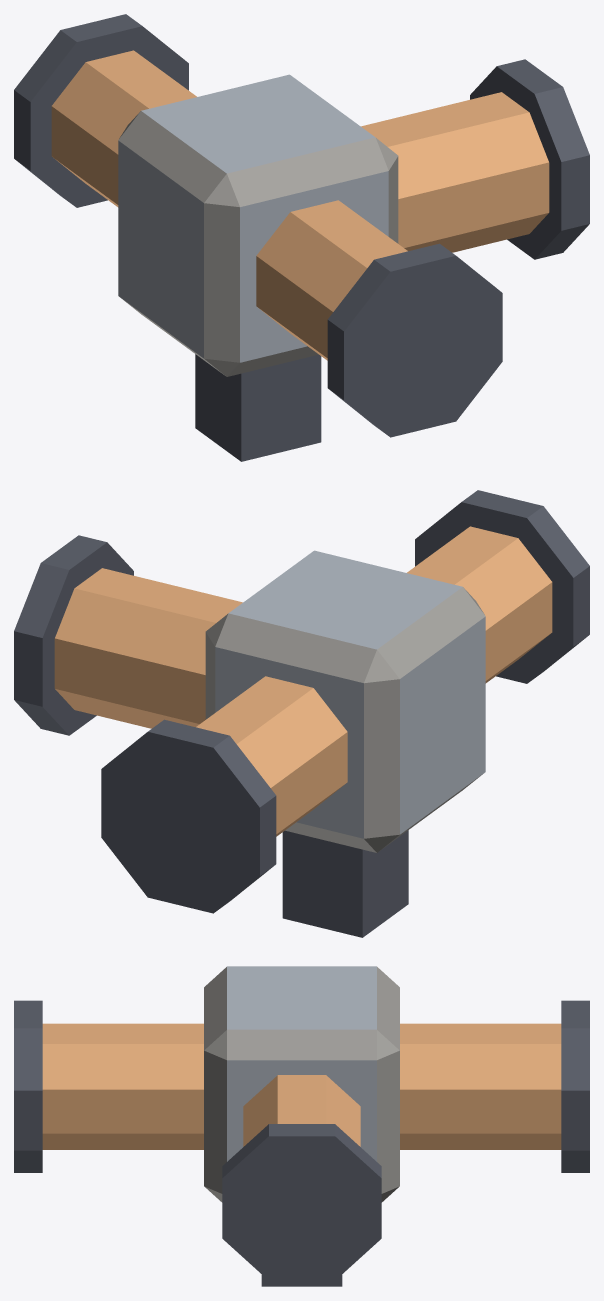
Rendered from cano_t_sem_textura.glb.
3 renders of one model, top to bottom at view 1: azimuth 30°, elevation 25°; view 2: azimuth 150°, elevation 25°; view 3: azimuth 270°, elevation 25°, orthographic. The views are drawn at different scales.
Parts seen in each view (by area): view 1: cano_t; view 2: cano_t; view 3: cano_t.
Part boxes in pixels (x1,y1,x2,y2): cano_t: [14, 14, 589, 461]; cano_t: [14, 490, 589, 937]; cano_t: [14, 966, 589, 1286].
Size of the model in its own units: 0.67 by 0.52 by 1.
